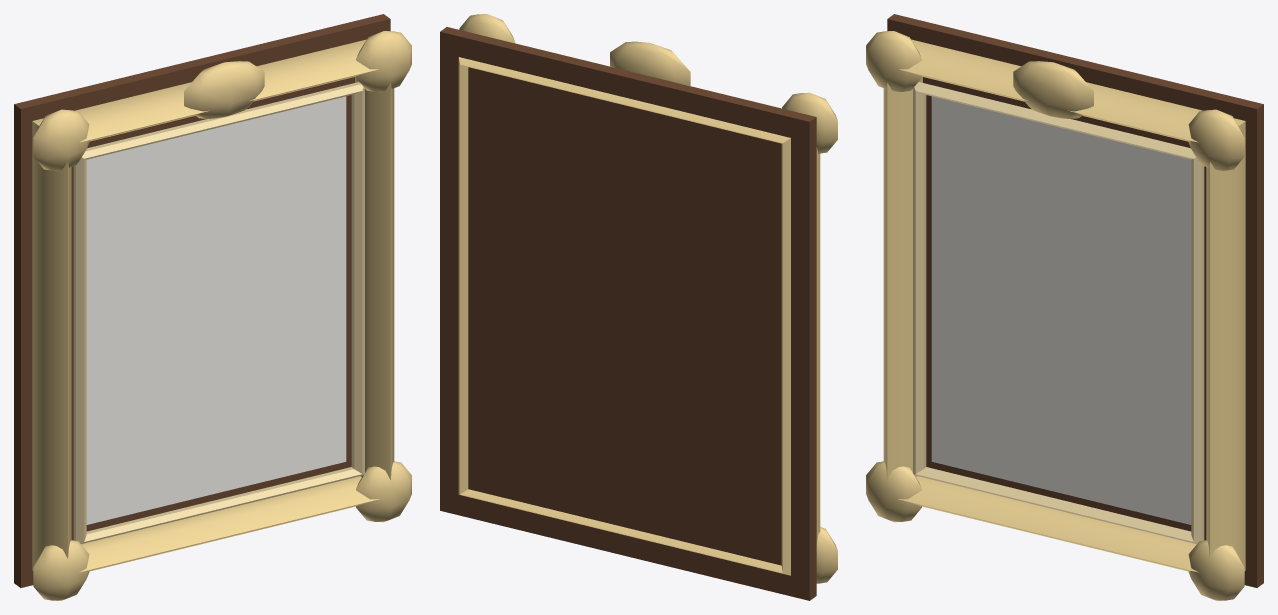
The model's file is photo-frame-gold.glb.
The picture shows the model from 3 angles, left to right: view 1: azimuth 30°, elevation 25°; view 2: azimuth 150°, elevation 25°; view 3: azimuth 330°, elevation 25°; orthographic projection.
Visible parts, largest first — view 1: photo_area, photo-frame-gold; view 2: photo-frame-gold; view 3: photo_area, photo-frame-gold.
Part boxes in pixels (x1,y1,x2,y2): photo_area: [86, 96, 346, 524]; photo-frame-gold: [14, 14, 411, 600]; photo-frame-gold: [440, 14, 837, 600]; photo_area: [931, 96, 1191, 524]; photo-frame-gold: [866, 14, 1263, 600].
Bounding box in the file's own units: 0.6451 × 0.815 × 0.1064.
